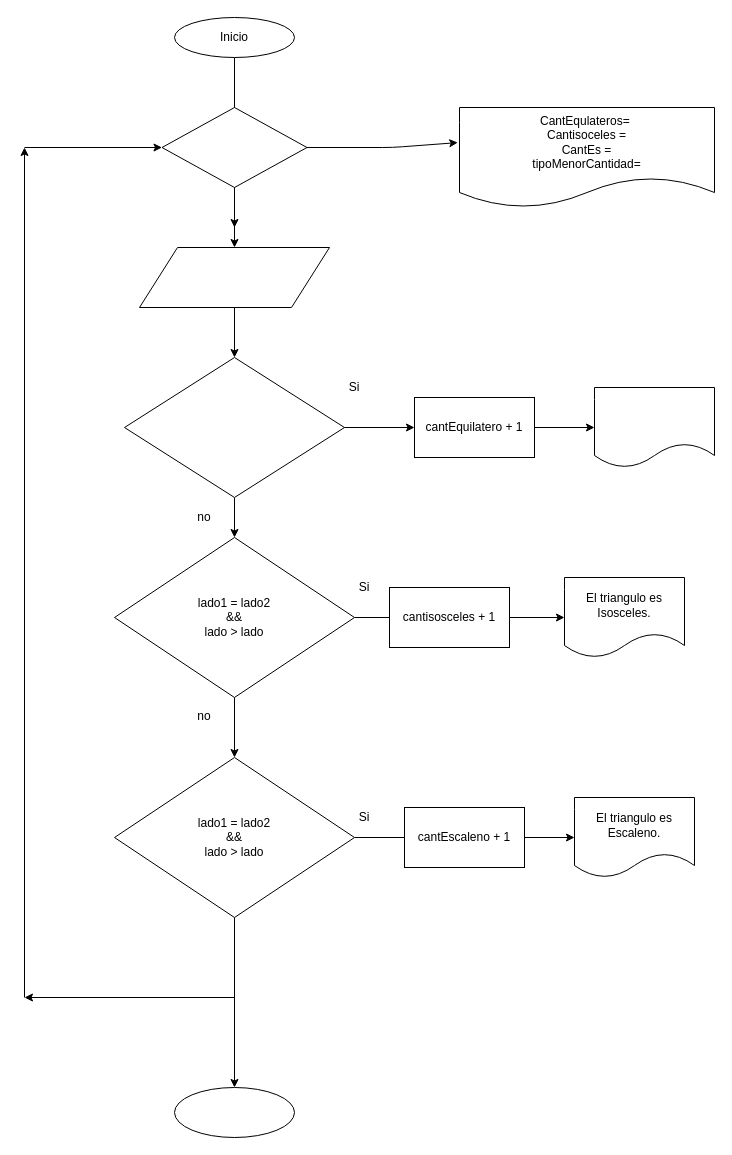
Some shapes in this 732 by 1155 pixel diagram are drawn without their labels. The box of each missing label's shape, as (x1, y1, x2, y2) in pixels:
cantTriangulos <=4: (161, 106, 307, 188)
El triangulo es equilatero.: (594, 386, 714, 468)
Fin: (174, 1086, 294, 1138)
lado1 = lado2 && lado2= lado3 && lado3 == lado1: (124, 356, 344, 498)
lado1, lado2, lado3: (138, 246, 330, 308)
